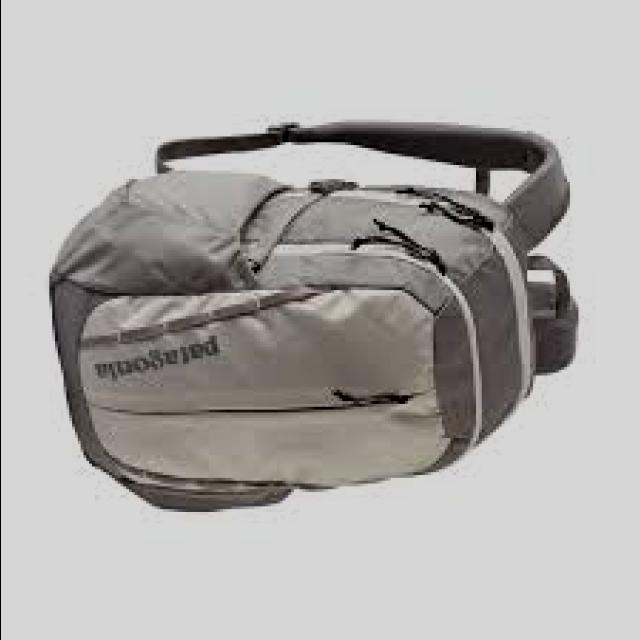backpack: (50, 121, 582, 513)
